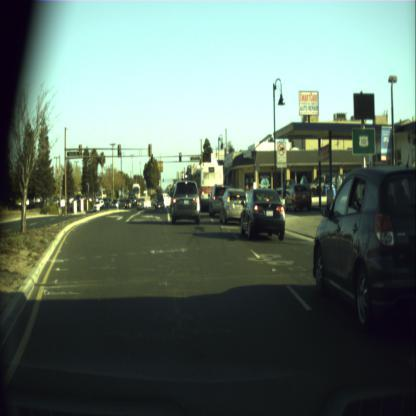Red: (178, 152, 182, 161)
